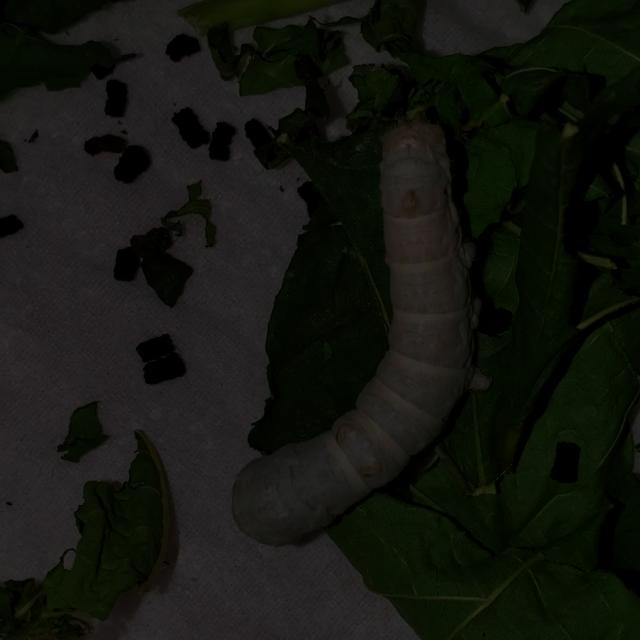Healthy: (214, 111, 509, 552)
